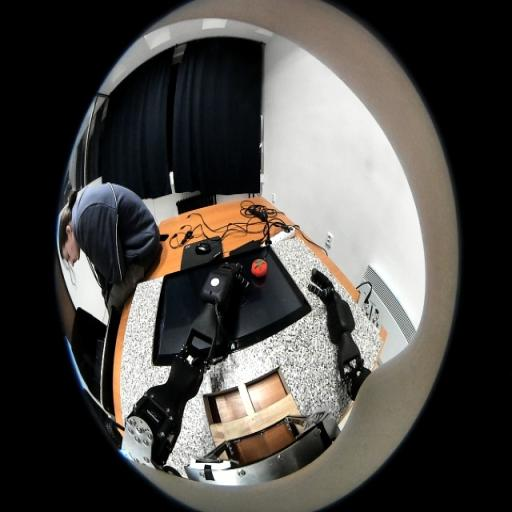LeftHand: (221, 263, 240, 270)
RightHand: (320, 282, 334, 303)
Tomato: (251, 258, 268, 277)
